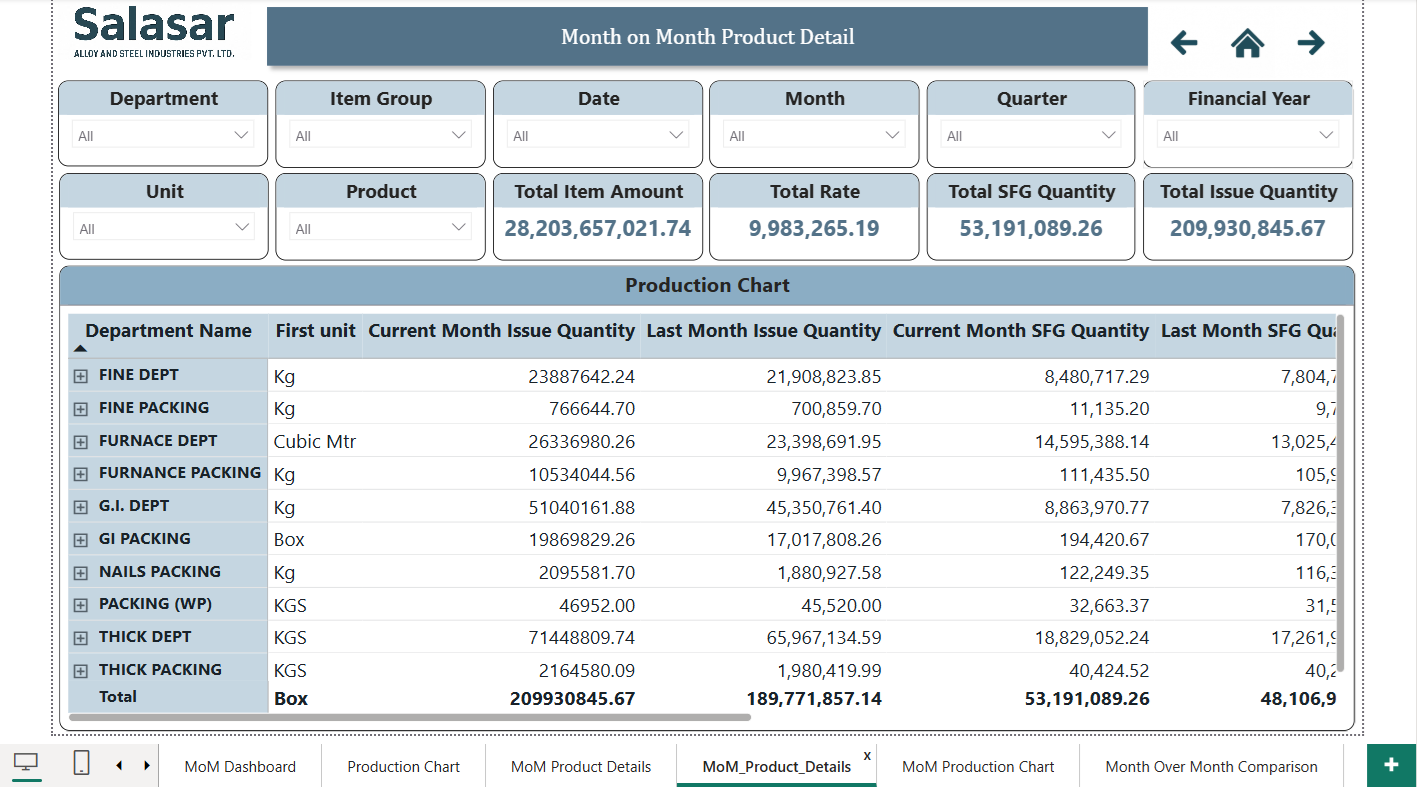

This screenshot's page, from the dashboard's own definition file:
{"tool":"powerbi","page":{"name":"MoM_Product_Details","canvas":[1280,720],"ordinal":8},"visuals":[{"type":"image","box":[1128.7,3.8,80,80],"z":0,"group":"g1"},{"type":"pivotTable","title":"Production Chart","fields":{"Rows":["Sheet 1.Department Name","Sheet 1.Product Name","Sheet 1.Product Specification","Sheet 1.Item Group Name","Sheet 1.Item Name"],"Values":["Min(Sheet 1.unit)","Sheet 1.Current Month Production Quantity","Sheet 1.Last Month Production Quantity","Sheet 1.Current Month SFG Quantity","Sheet 1.Last Month SFG Quantity","Sheet 1.Current Month Rate","Sheet 1.Last Month Rate","Sheet 1.Current Month Amount","Sheet 1.Last Month Item Amount"]},"box":[6.1,261.7,1266.9,455],"z":0},{"type":"image","box":[1066.2,3.8,80,80],"z":1000,"group":"g1"},{"type":"slicer","title":"Department","fields":{"Values":["Sheet 1.Department Name"]},"box":[4.9,81,205.4,84.4],"z":1000},{"type":"image","box":[1191.2,3.8,80,80],"z":2000,"group":"g1"},{"type":"slicer","title":"Item Group","fields":{"Values":["Sheet 1.Item Group Name"]},"box":[217.4,81,205.4,85.6],"z":2000},{"type":"slicer","title":"Date","fields":{"Values":["Sheet 1.Doc Date"]},"box":[429.9,81,205.4,85.6],"z":3000},{"type":"slicer","title":"Month","fields":{"Values":["Calendar.Month"]},"box":[642.5,81,205.4,85.6],"z":4000},{"type":"slicer","title":"Quarter","fields":{"Values":["Calendar.Qtr"]},"box":[855,81,204.2,85.6],"z":5000},{"type":"slicer","title":"Financial Year","fields":{"Values":["Calendar.Fiscal Year"]},"box":[1066.3,81,205.4,85.6],"z":6000},{"type":"slicer","title":"Unit","fields":{"Values":["Sheet 1.unit"]},"box":[6.1,171,205,85],"z":7000},{"type":"card","title":"Total Item Amount ","fields":{"Values":["Sum(Sheet 1.ItemAmount)"]},"box":[430.4,171,205.4,85.6],"z":8000},{"type":"card","title":"Total Rate","fields":{"Values":["Sum(Sheet 1.Rate)"]},"box":[642,171,205.4,85.6],"z":9000},{"type":"card","title":"Total SFG Quantity","fields":{"Values":["Sum(Sheet 1.SFG Quantity)"]},"box":[854.8,171,204.2,85.6],"z":10000},{"type":"card","title":"Total Issue Quantity","fields":{"Values":["Sum(Sheet 1.Issue Quantity)"]},"box":[1066.3,171,205.4,85.6],"z":11000},{"type":"slicer","title":"Product","fields":{"Values":["Sheet 1.Product Name"]},"box":[217.7,171,205.4,85.6],"z":12000},{"type":"shape","box":[200,0,880,75],"z":13000},{"type":"image","box":[0,0,199.3,66],"z":14000},{"type":"group","id":"g1","title":"Group 1","box":[1066.2,3.8,205,80],"z":15000}]}

Visuals, with their boxes on the page's 1280x720 design canvas (x1, y1, x2, y2). These are canvas units, not pixel positions in the 1417x787 screenshot, which may show the page scaled, cropped or inside an application window:
image: 1129/4/1209/84
"Production Chart" pivotTable: 6/262/1273/717
image: 1066/4/1146/84
"Department" slicer: 5/81/210/165
image: 1191/4/1271/84
"Item Group" slicer: 217/81/423/167
"Date" slicer: 430/81/635/167
"Month" slicer: 642/81/848/167
"Quarter" slicer: 855/81/1059/167
"Financial Year" slicer: 1066/81/1272/167
"Unit" slicer: 6/171/211/256
"Total Item Amount " card: 430/171/636/257
"Total Rate" card: 642/171/847/257
"Total SFG Quantity" card: 855/171/1059/257
"Total Issue Quantity" card: 1066/171/1272/257
"Product" slicer: 218/171/423/257
shape: 200/0/1080/75
image: 0/0/199/66
"Group 1" group: 1066/4/1271/84
